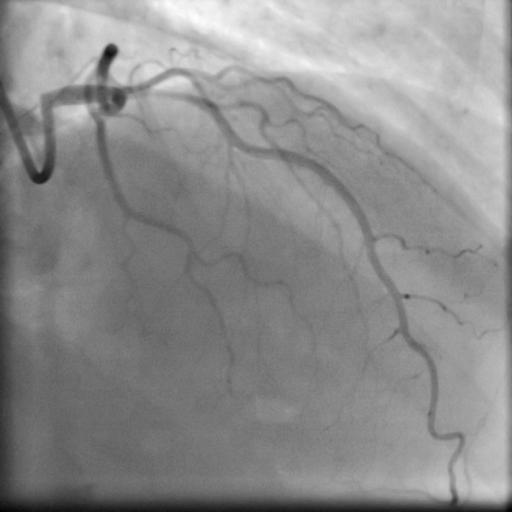Stenosis: (147, 85, 200, 106)
